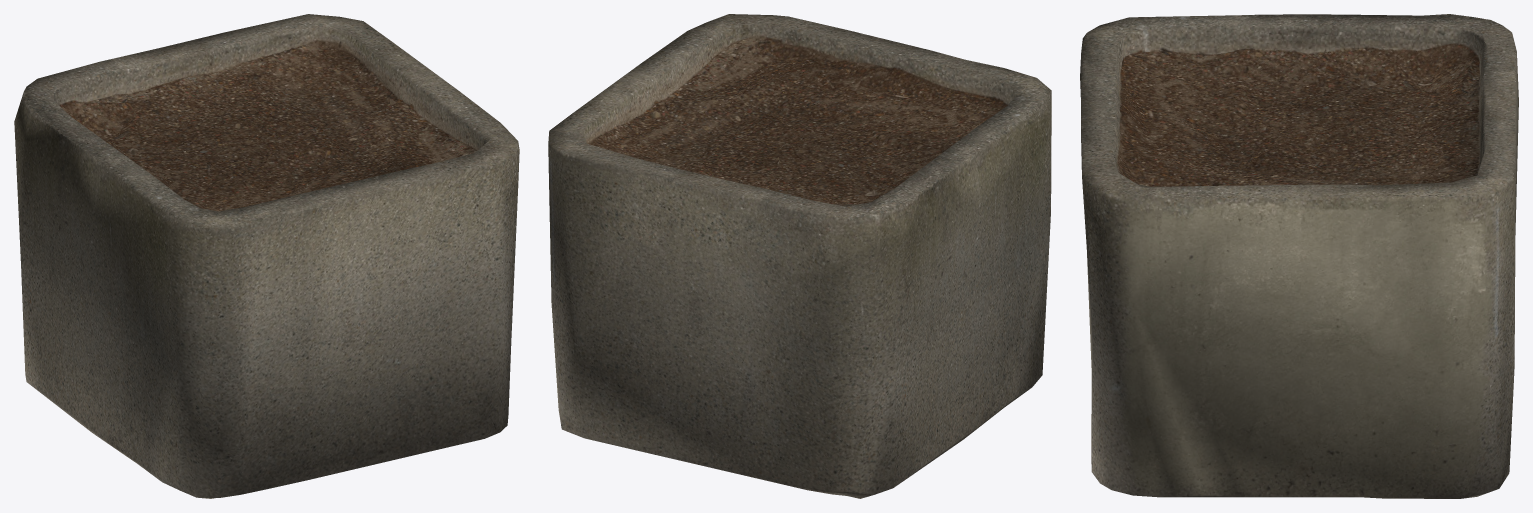
File: pot.glb
3 views of the same model, side by side, from view 1: azimuth 30°, elevation 25°; view 2: azimuth 150°, elevation 25°; view 3: azimuth 270°, elevation 25° (orthographic). The views are drawn at different scales.
Parts seen in each view (by area): view 1: ui1ldhkba_LOD0_TIER3_000; view 2: ui1ldhkba_LOD0_TIER3_000; view 3: ui1ldhkba_LOD0_TIER3_000.
Part boxes in pixels (left/top/right/bottom): ui1ldhkba_LOD0_TIER3_000: left=14, top=14, right=519, bottom=498; ui1ldhkba_LOD0_TIER3_000: left=548, top=14, right=1051, bottom=498; ui1ldhkba_LOD0_TIER3_000: left=1080, top=14, right=1518, bottom=498.
Bounding box in the file's own units: 0.9179 × 0.7295 × 0.9089.
Materials: 1 (1 with a texture image).
